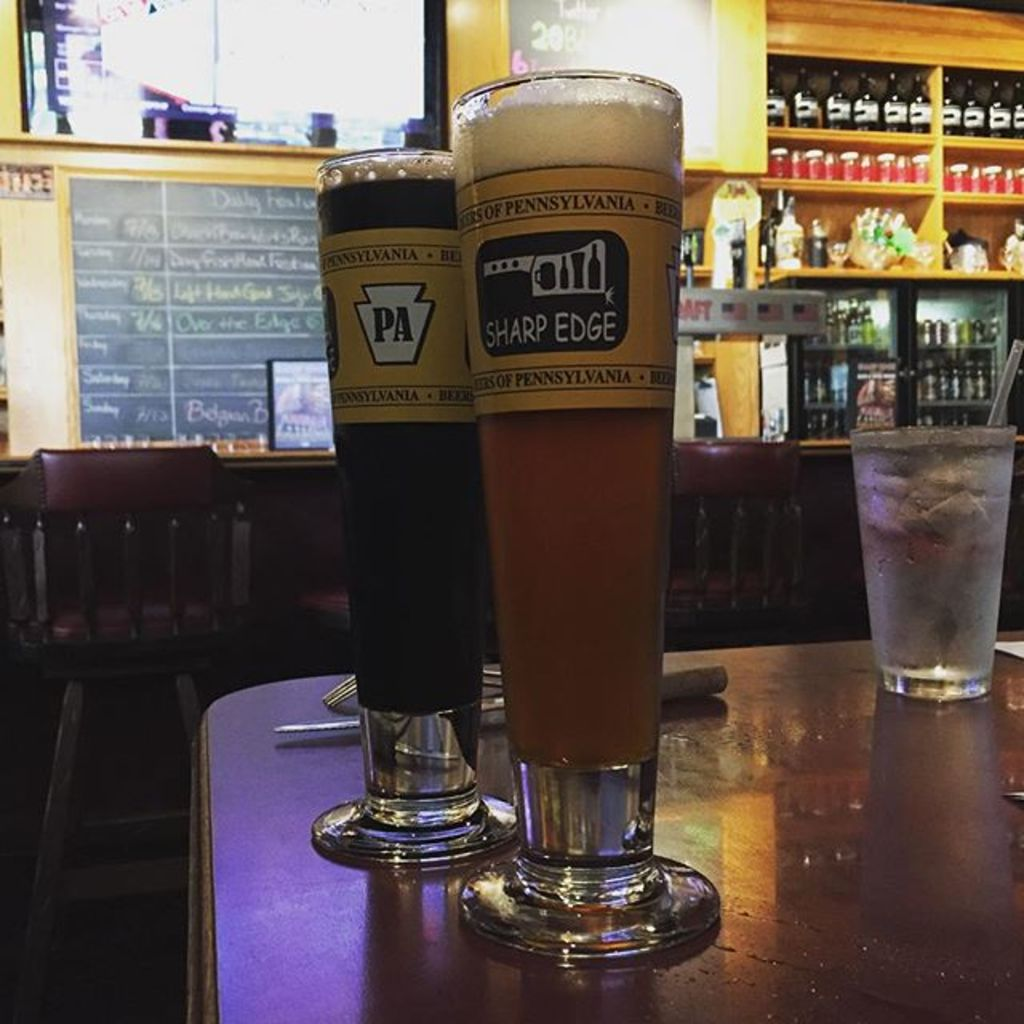Beer: (452, 99, 688, 769), (329, 163, 500, 711)
